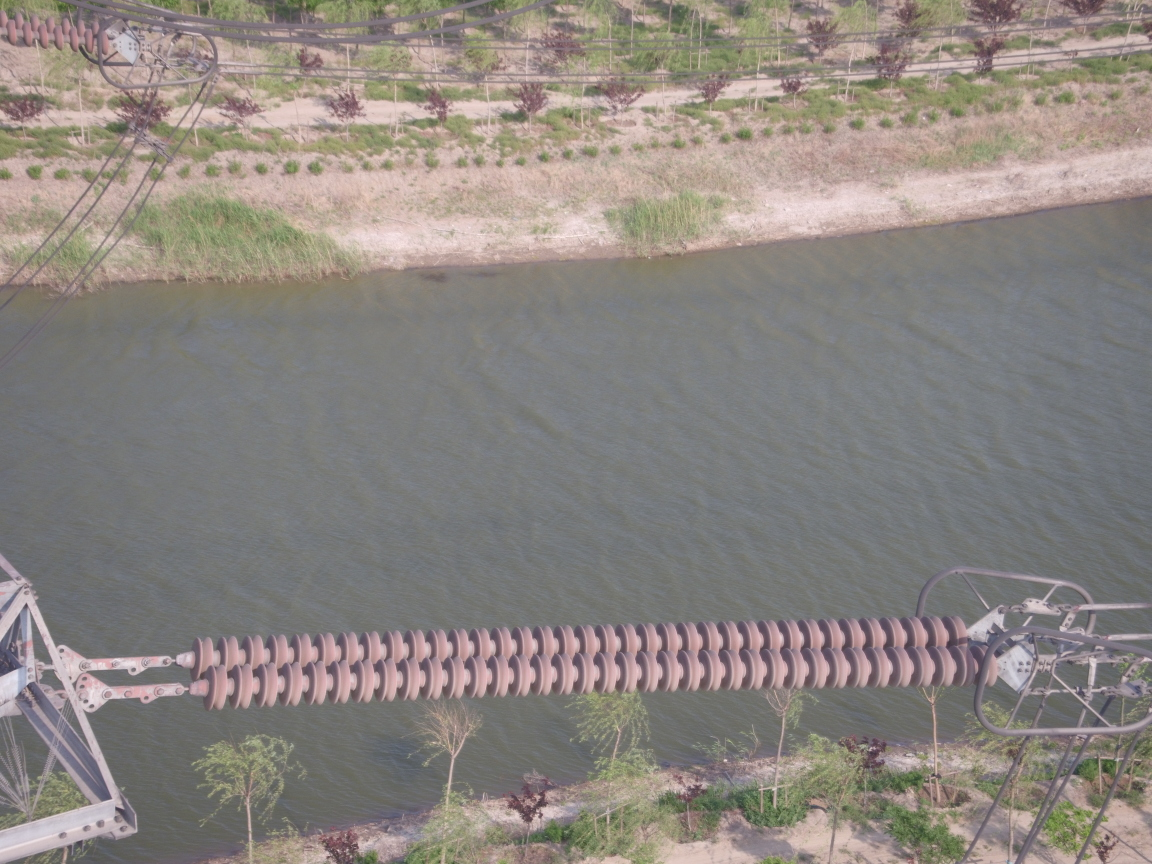insulator: (130, 607, 1019, 712)
